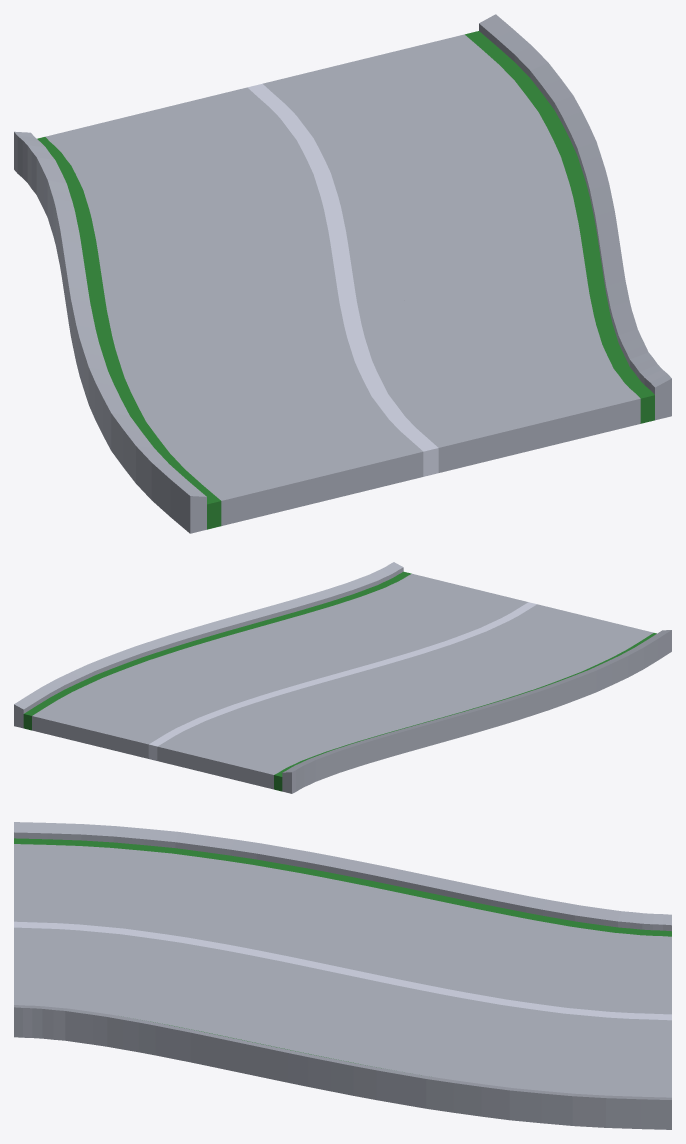
Rendered from flat_chicane_right.glb.
3 views of the same model, one above another, from view 1: azimuth 30°, elevation 25°; view 2: azimuth 150°, elevation 25°; view 3: azimuth 270°, elevation 25° (orthographic). The views are drawn at different scales.
Parts seen in each view (by area): view 1: flat_chicane_right; view 2: flat_chicane_right; view 3: flat_chicane_right.
Boxes of the visible parts, <box> form: flat_chicane_right: <box>14,14,671,533</box>; flat_chicane_right: <box>14,562,671,793</box>; flat_chicane_right: <box>14,822,671,1129</box>.
Bounding box in the file's own units: 30.01 × 1.5 × 30.
